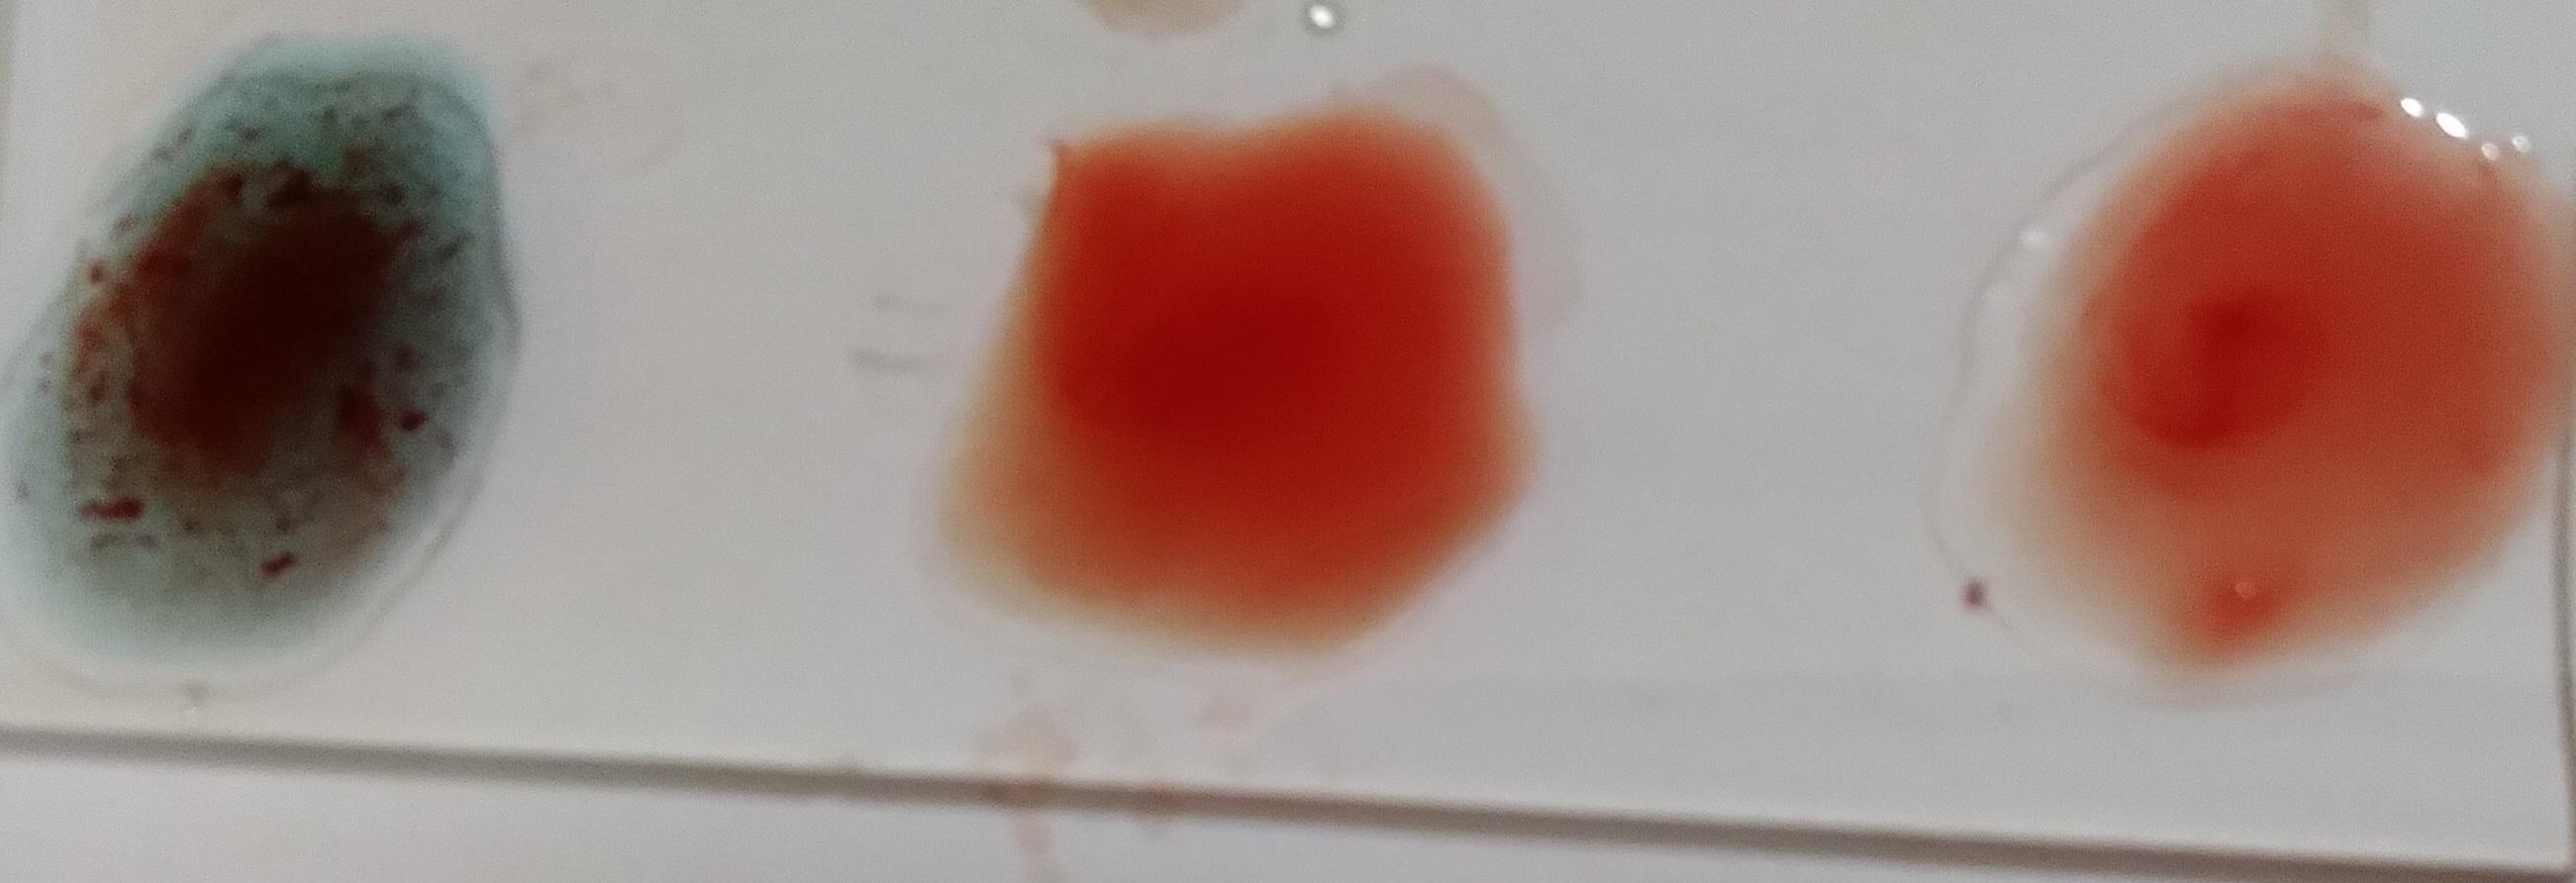A: (30, 48, 519, 678)
